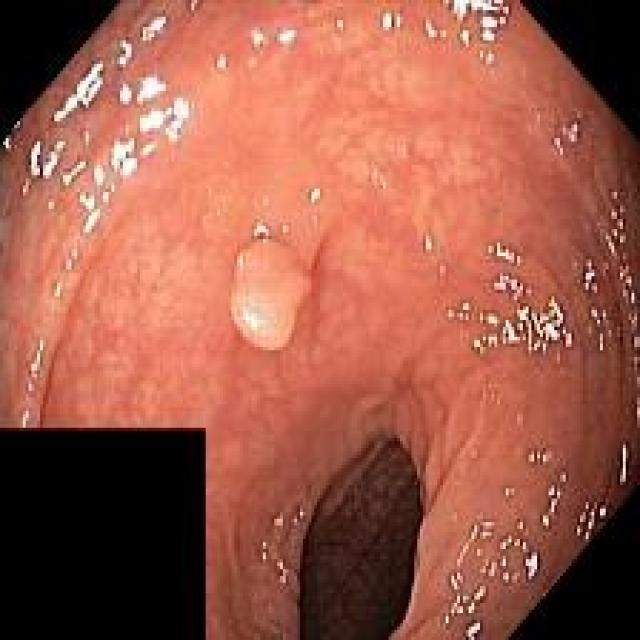Polyps: (230, 239, 312, 350)
